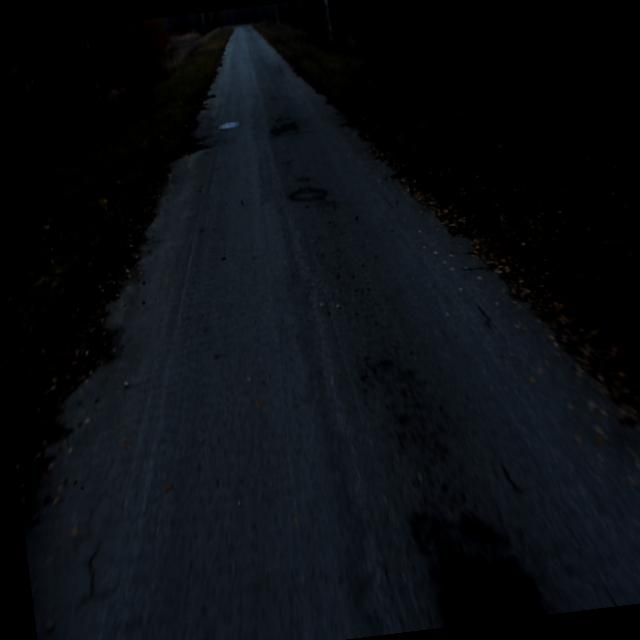road: (21, 23, 640, 640)
